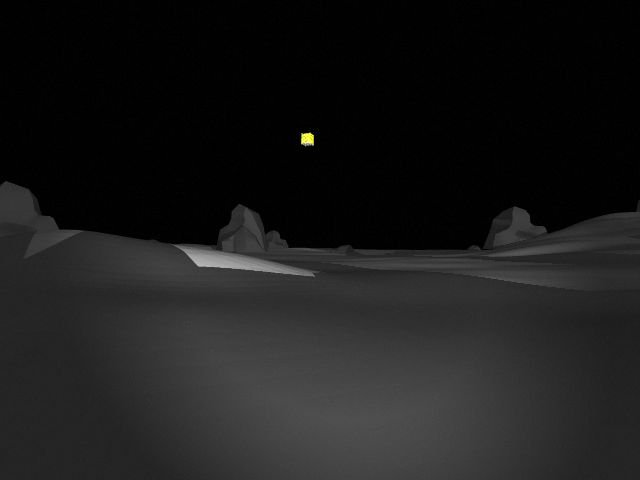cubesat: (297, 128, 316, 149)
